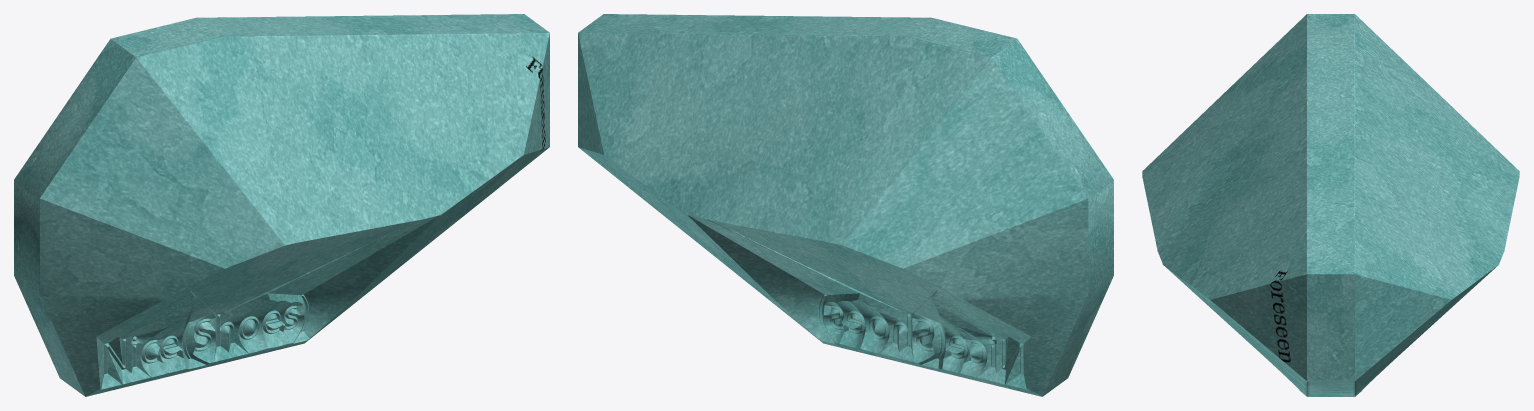
Rendered from Asset2.gltf.
3 views of the same model, side by side, from view 1: azimuth 30°, elevation 25°; view 2: azimuth 150°, elevation 25°; view 3: azimuth 270°, elevation 25° (orthographic). The views are drawn at different scales.
Bounding box in the file's own units: 0.3271 × 0.2004 × 0.224.
2 materials, 2 textured.
